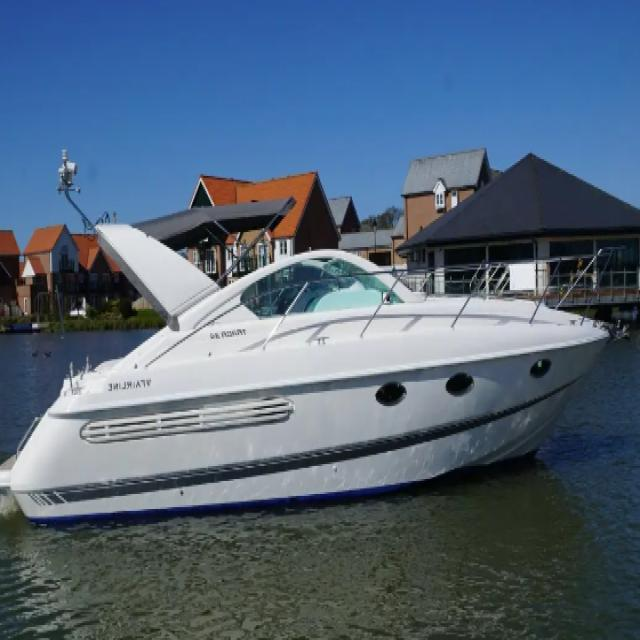houseboat: (0, 189, 615, 530)
